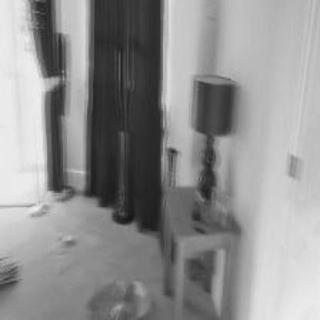other: (180, 62, 244, 146), (83, 274, 139, 316)
